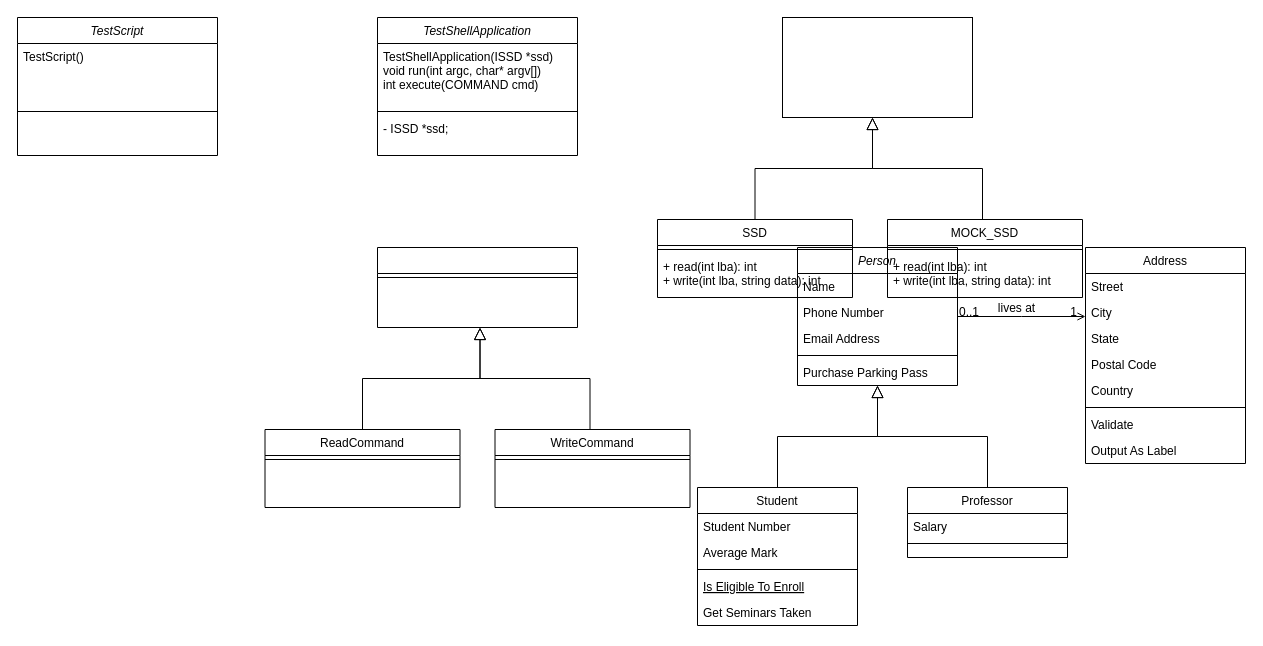
This 1263x646 diagram has some shape labels left out. Here are the shapes that lost their labels. From the top down, the centre of each, then its label:
point (877, 67): <<Interface>> ISSD + read(int lba): int + write(int lba, string data): int
point (477, 287): COMMAND
